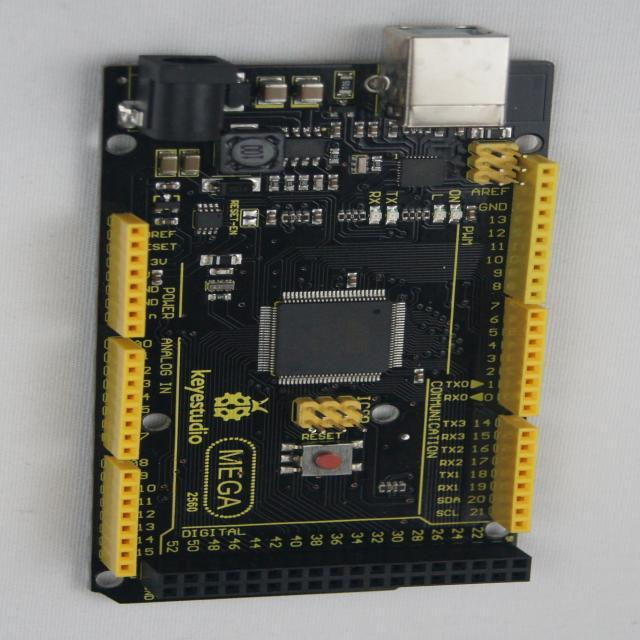Arduino Mega 2560 -Yellow-: (94, 27, 559, 604)
